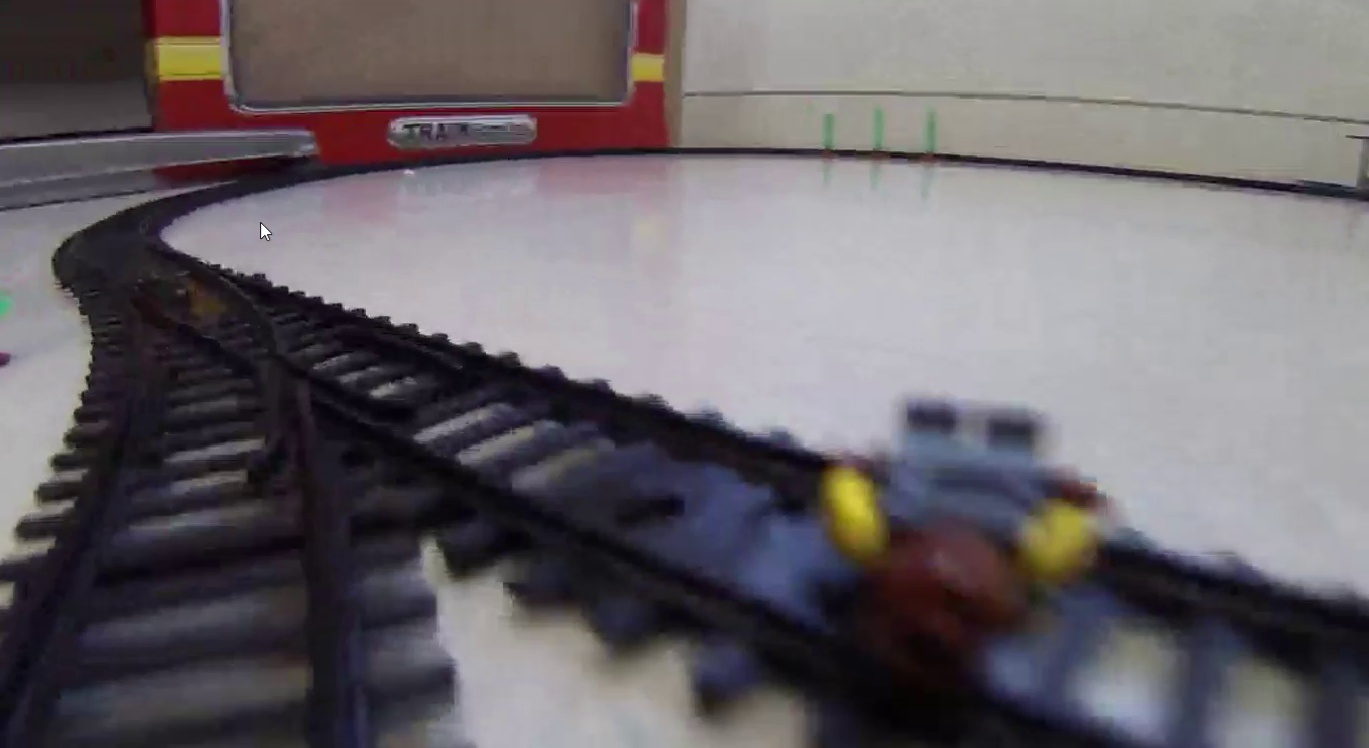people: (823, 396, 1100, 634)
